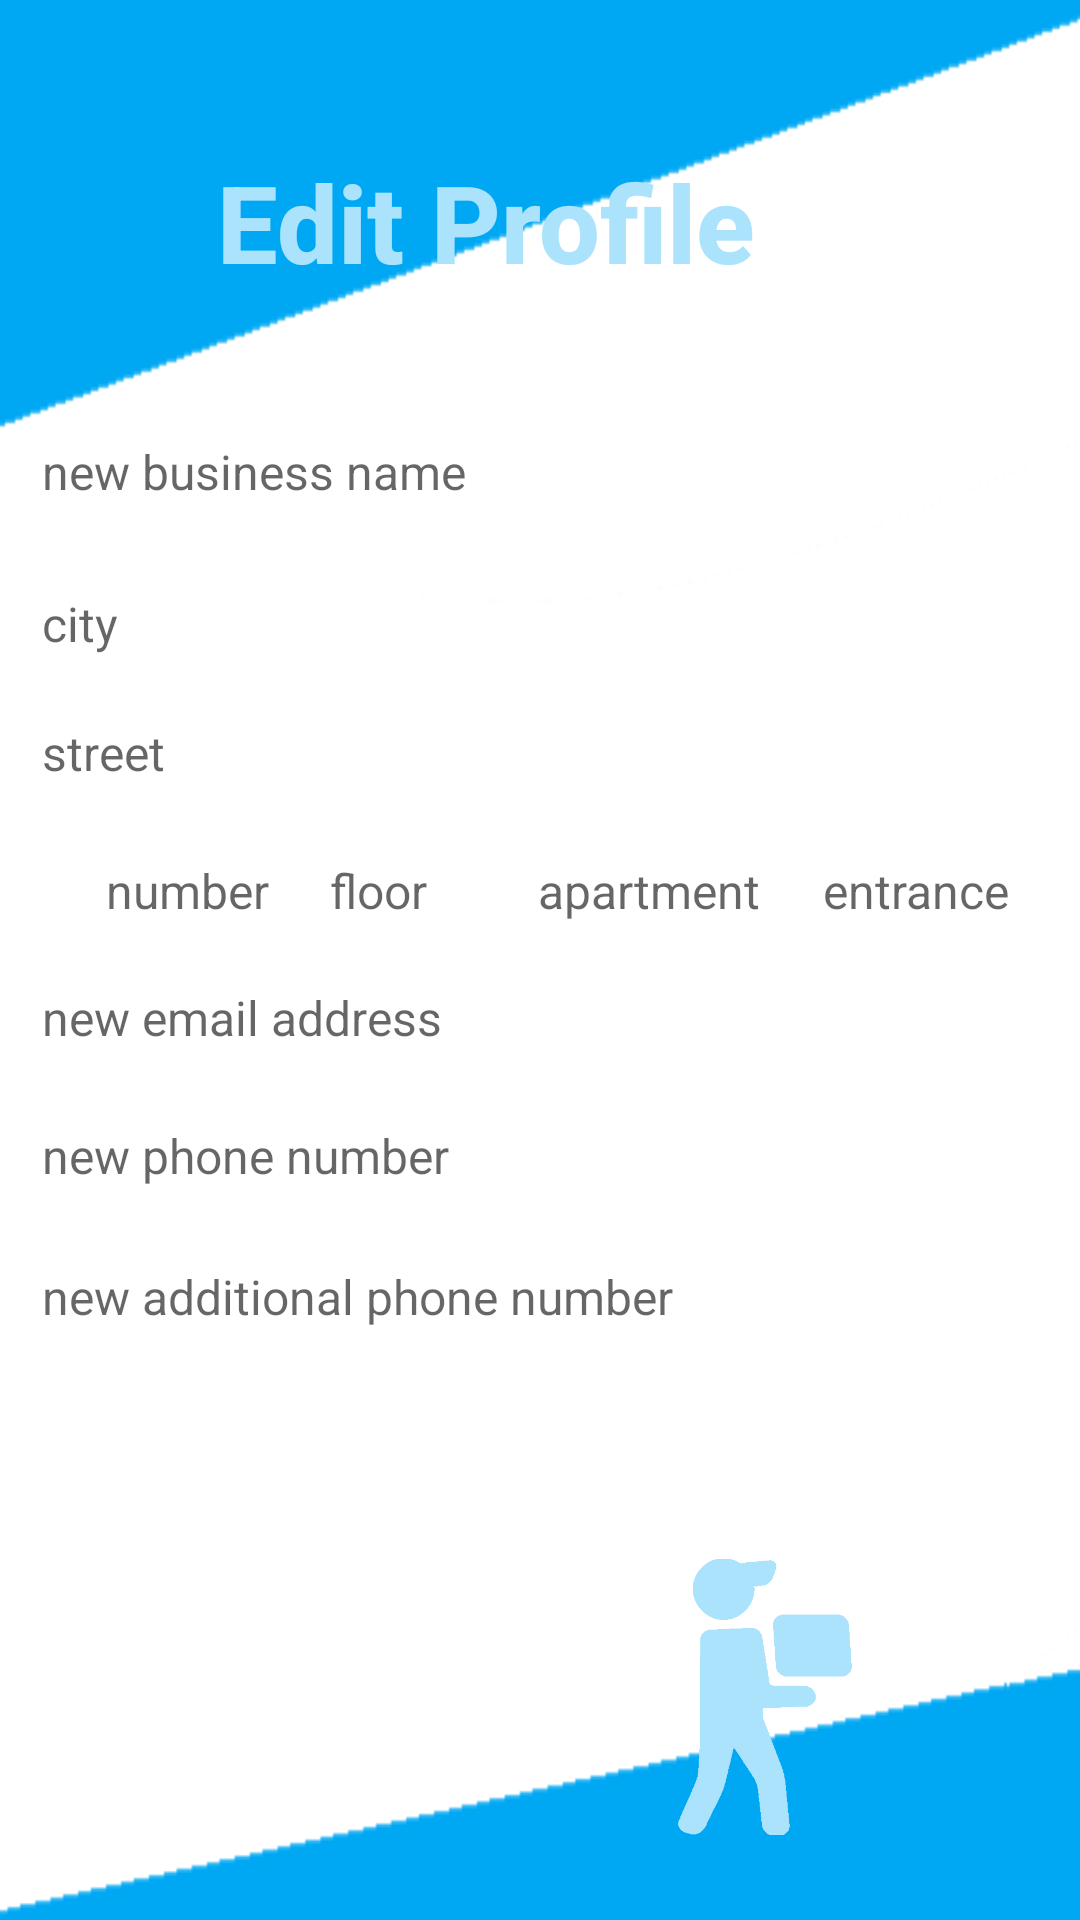

Point at icon controls on the screen. Image size 1080×1920, points as [x,y].
deliverymancopy: [765,1697]
